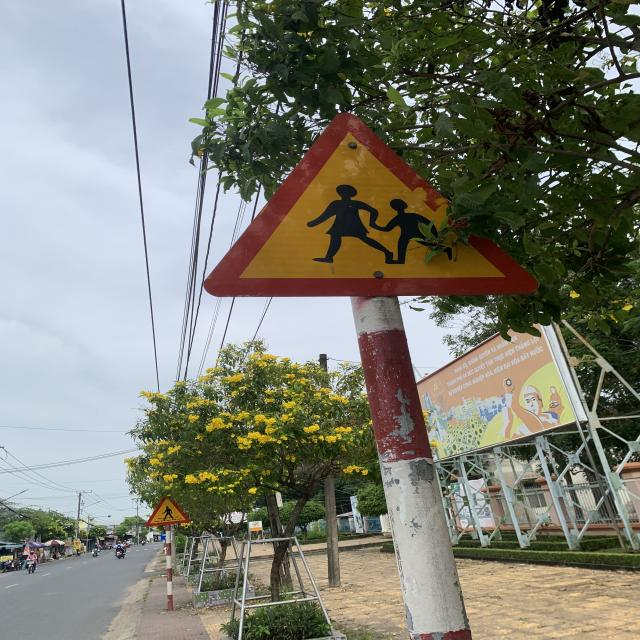Vong_Xuyen: (202, 110, 540, 297)
